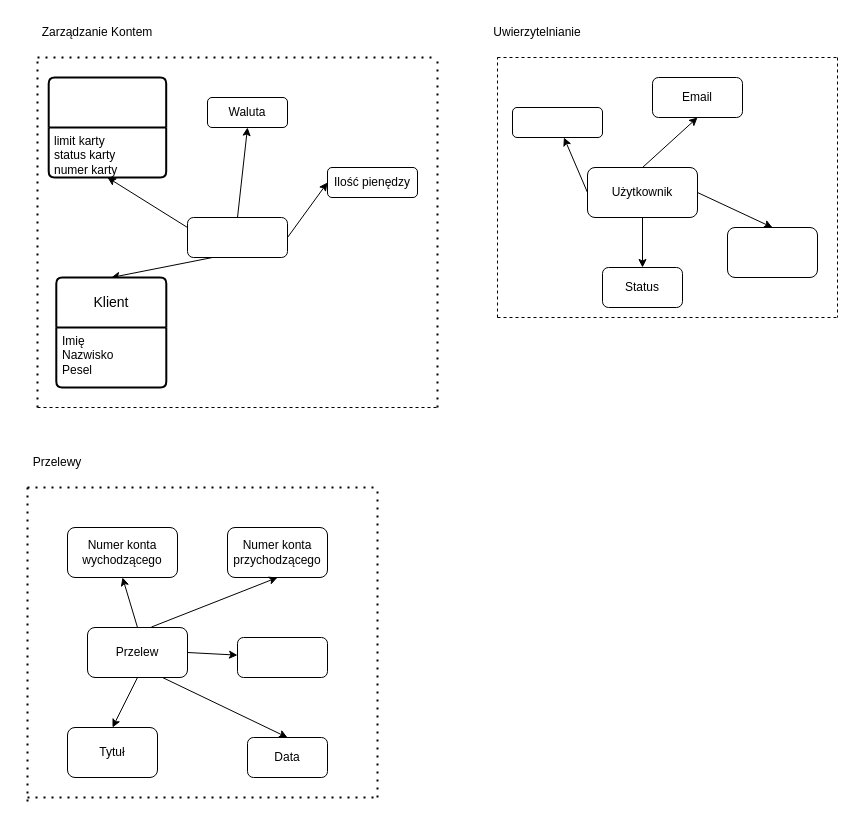
The diagram is 856 pixels wide and 826 high, and some of its shapes have lost their labels. The box of each missing label's shape, as (x1, y1, x2, y2) in pixels:
Hasło: (512, 106, 602, 138)
Karta Płatnicza: (47, 76, 167, 178)
Konto Bankowe: (186, 216, 288, 258)
Kwota: (236, 636, 328, 678)
Numer konta bankowego: (726, 226, 818, 278)
